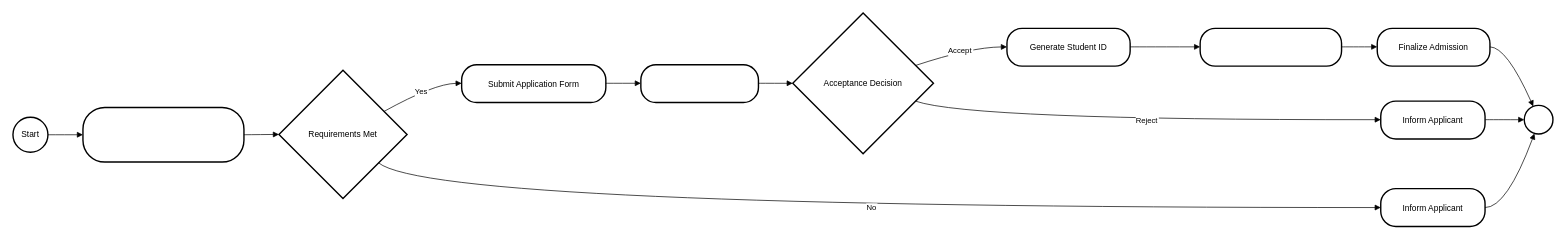
Some shapes in this 1565 by 239 pixel diagram are drawn without their labels. Here are the shapes that lost their labels. From the top down, the centre of each, then its label:
the point at 1270,46: Update Student Records
the point at 699,83: Process Application
the point at 163,134: Verify Admission Requirements
the point at 1538,119: End
